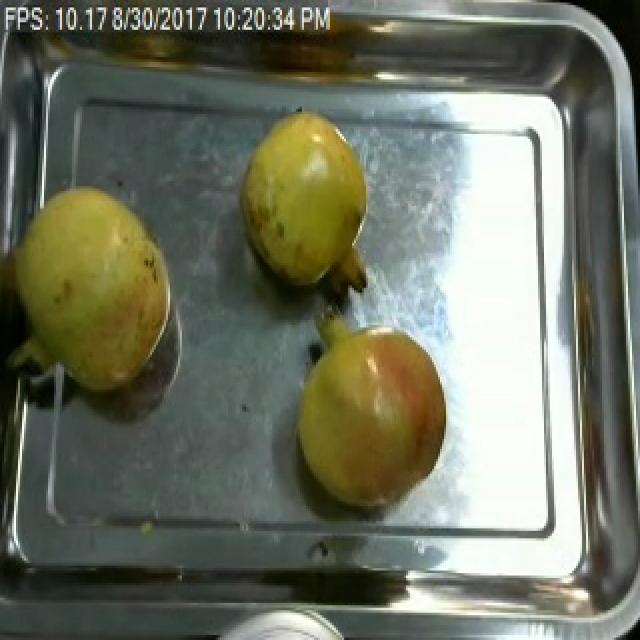fruit: (0, 172, 182, 404), (288, 312, 458, 521), (234, 99, 374, 295)
